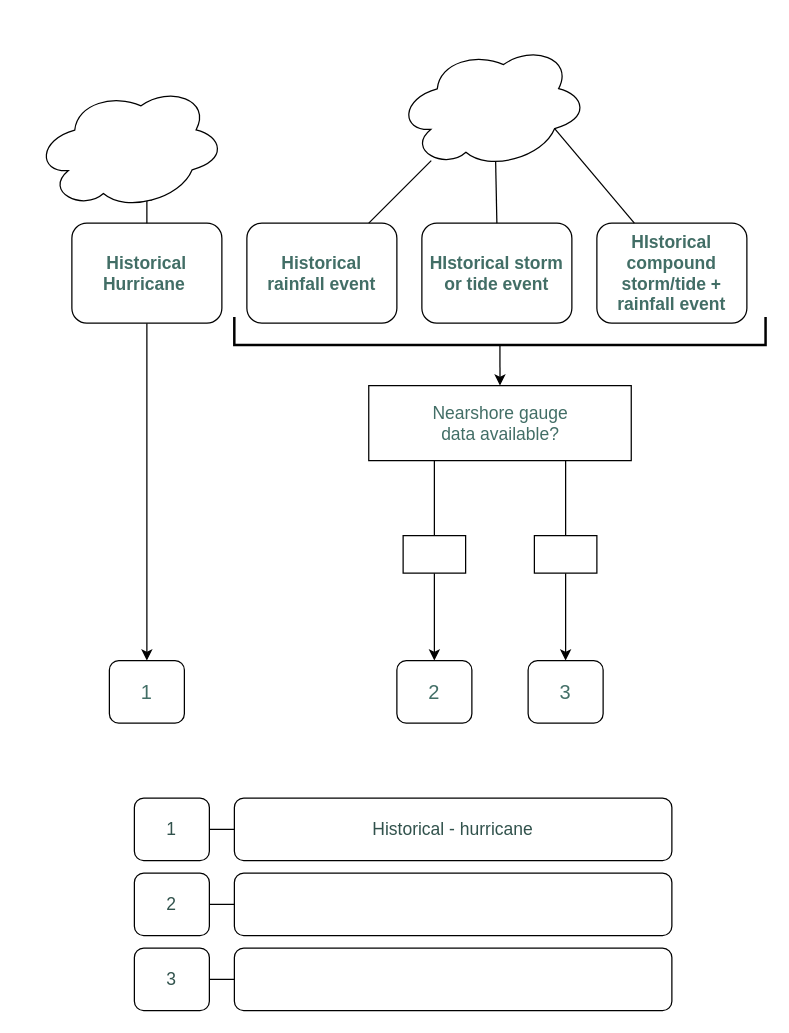
This 789x1033 diagram has some shape labels left out. The centre of each missing label's shape, as x and y in pixels:
"Ability to increase rainfall!" goes at [490,106].
"Ability to shift the track!" goes at [127,147].
"Historical event - using gauged water levels" goes at [452,979].
"Historical event - without gauged water levels" goes at [452,904].
"No" goes at [434,553].
"Yes" goes at [565,553].
